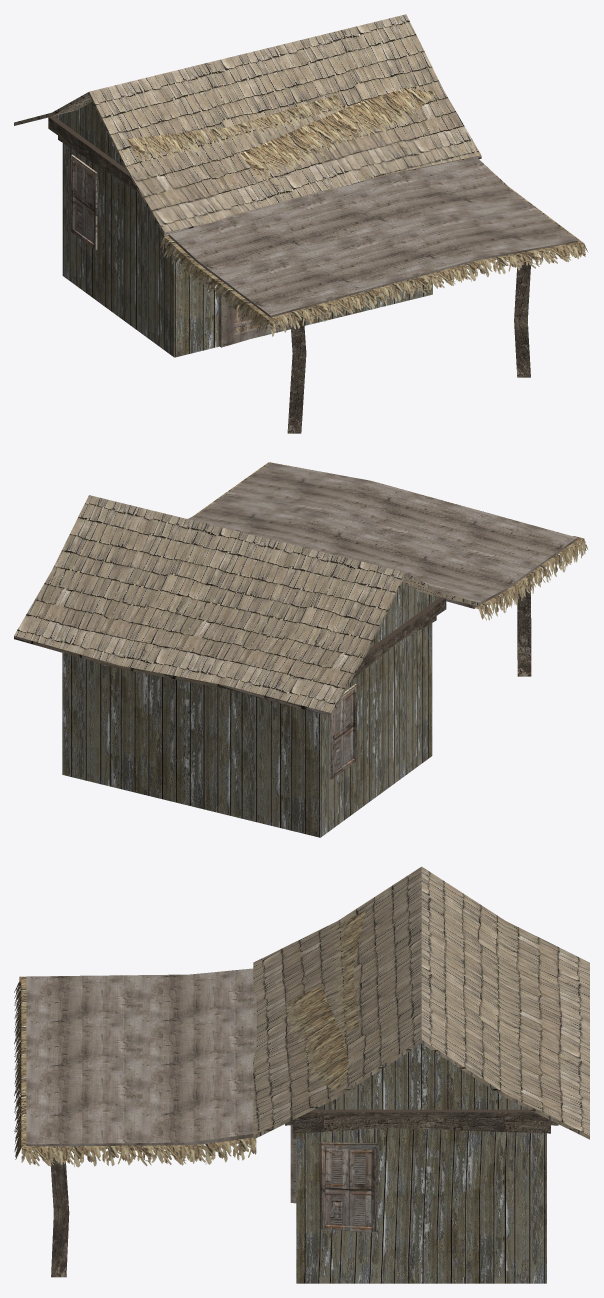
The model's file is shack.glb.
3 renders of one model, top to bottom at view 1: azimuth 30°, elevation 25°; view 2: azimuth 150°, elevation 25°; view 3: azimuth 270°, elevation 25°, orthographic. The views are drawn at different scales.
Visible parts, largest first — view 1: Plane.001; view 2: Plane.001; view 3: Plane.001.
Boxes of the visible parts, <box> form: Plane.001: <box>14,14,588,433</box>; Plane.001: <box>14,462,588,837</box>; Plane.001: <box>14,866,589,1283</box>.
Bounding box in the file's own units: 5.06 × 3.43 × 6.9.
7 materials, 7 textured.
